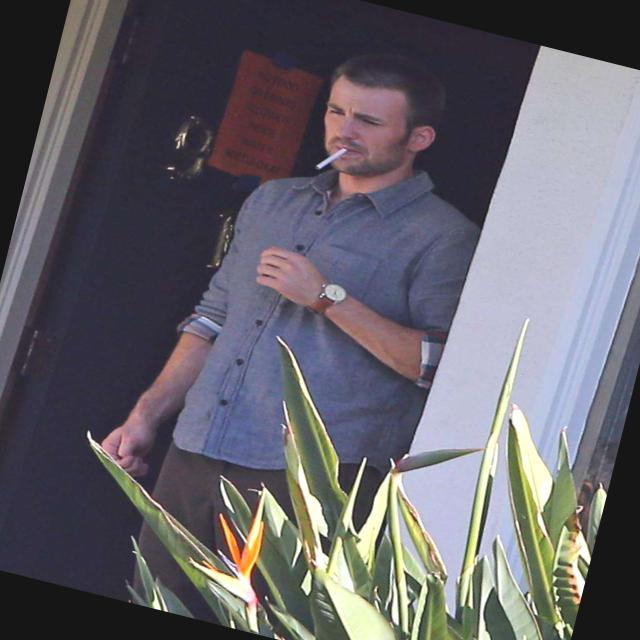smoke: (312, 139, 349, 177)
